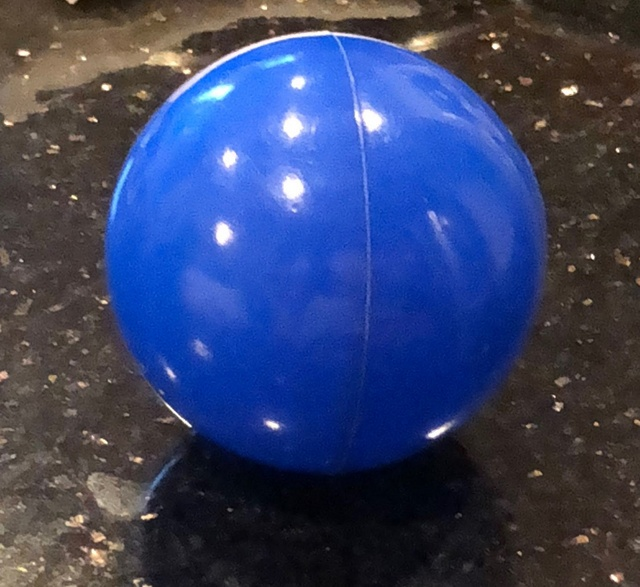Ball: (110, 33, 550, 475)
